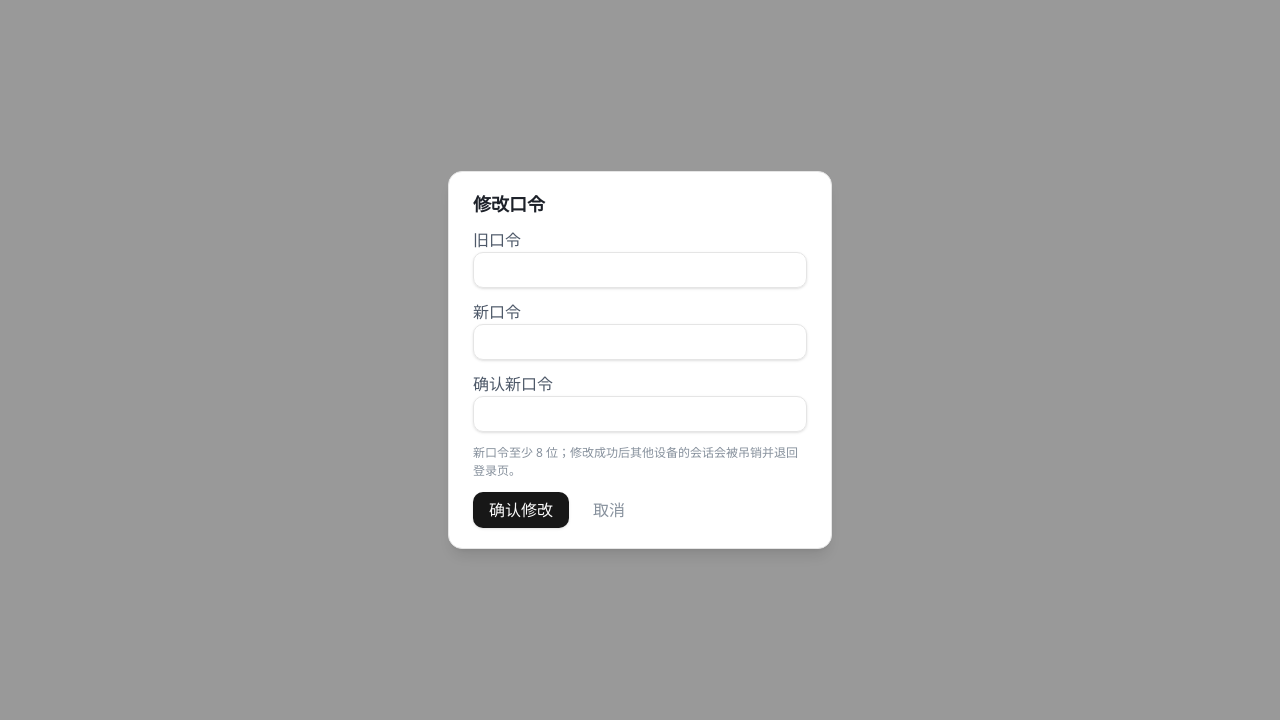
Test: 收编⑱：新口令短于 8 位前端拦截并上文案，不发请求
Type "Old-Pass-9" into the password field labelled "旧口令" at x=640, y=270, box [473,252,807,288]
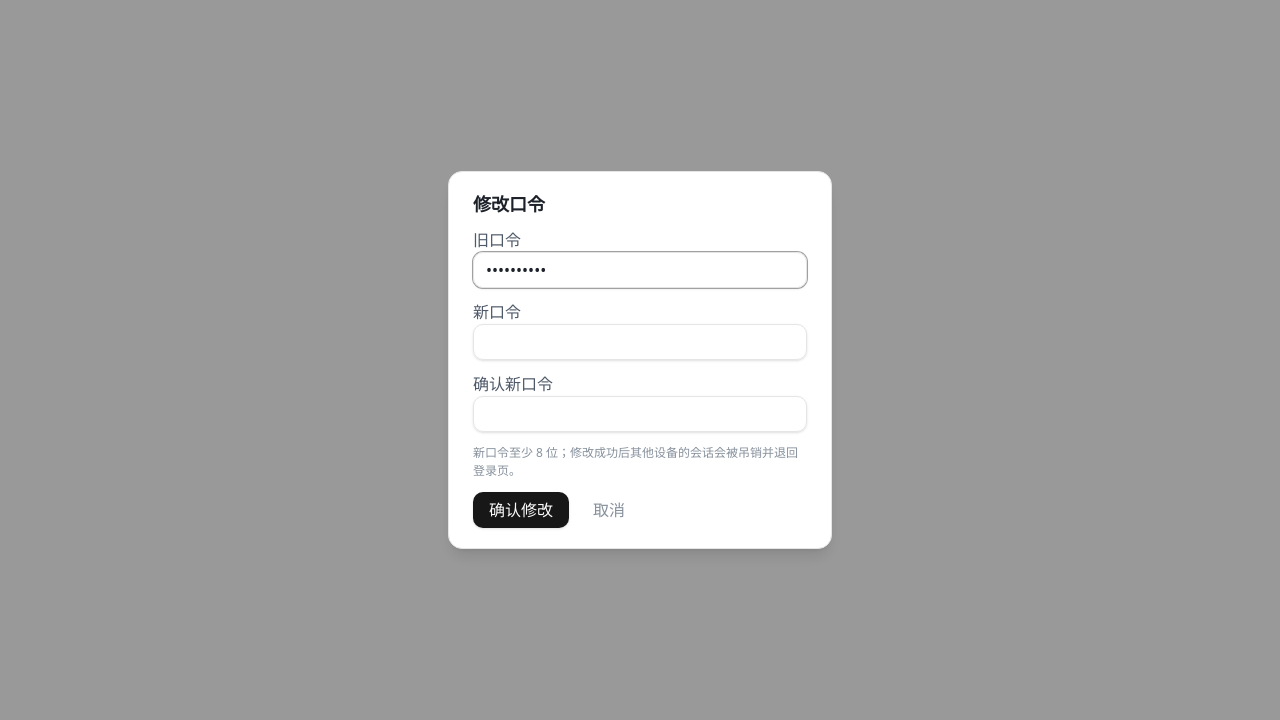
Type "Ab1!" into the password field labelled "新口令" at x=640, y=342, box [473,324,807,360]
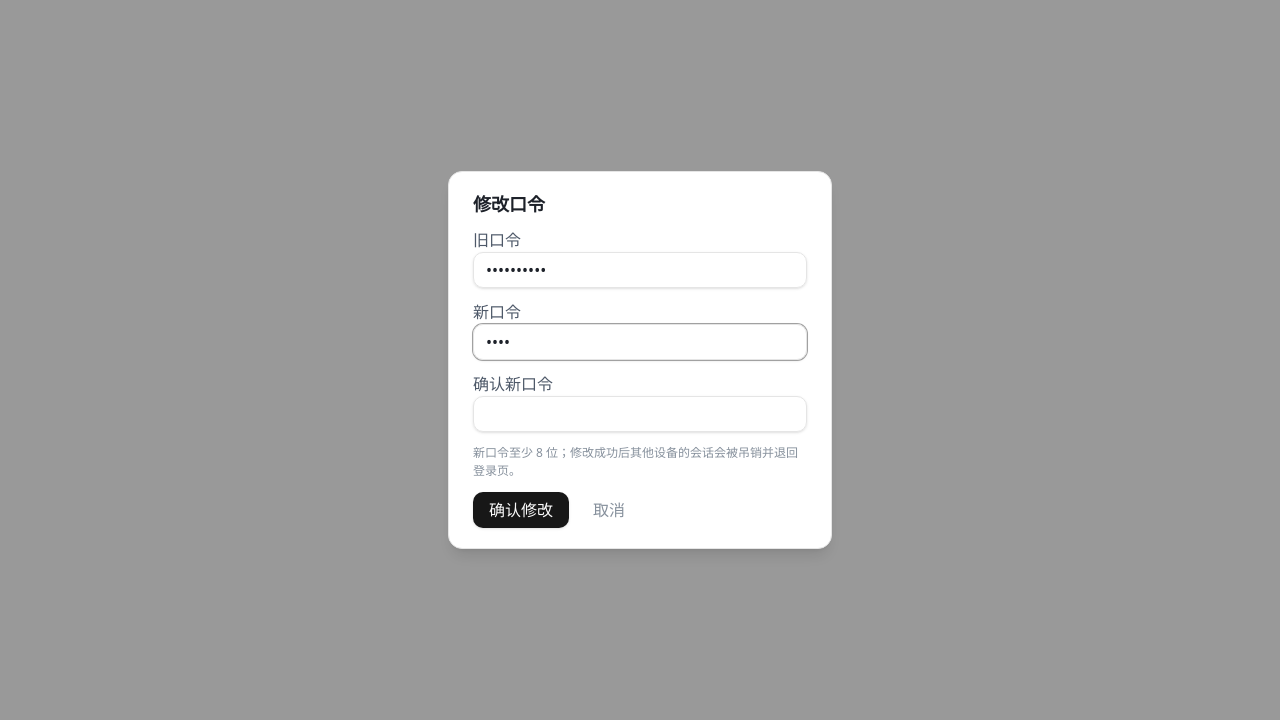
Type "Ab1!" into the password field labelled "确认新口令" at x=640, y=414, box [473,396,807,432]
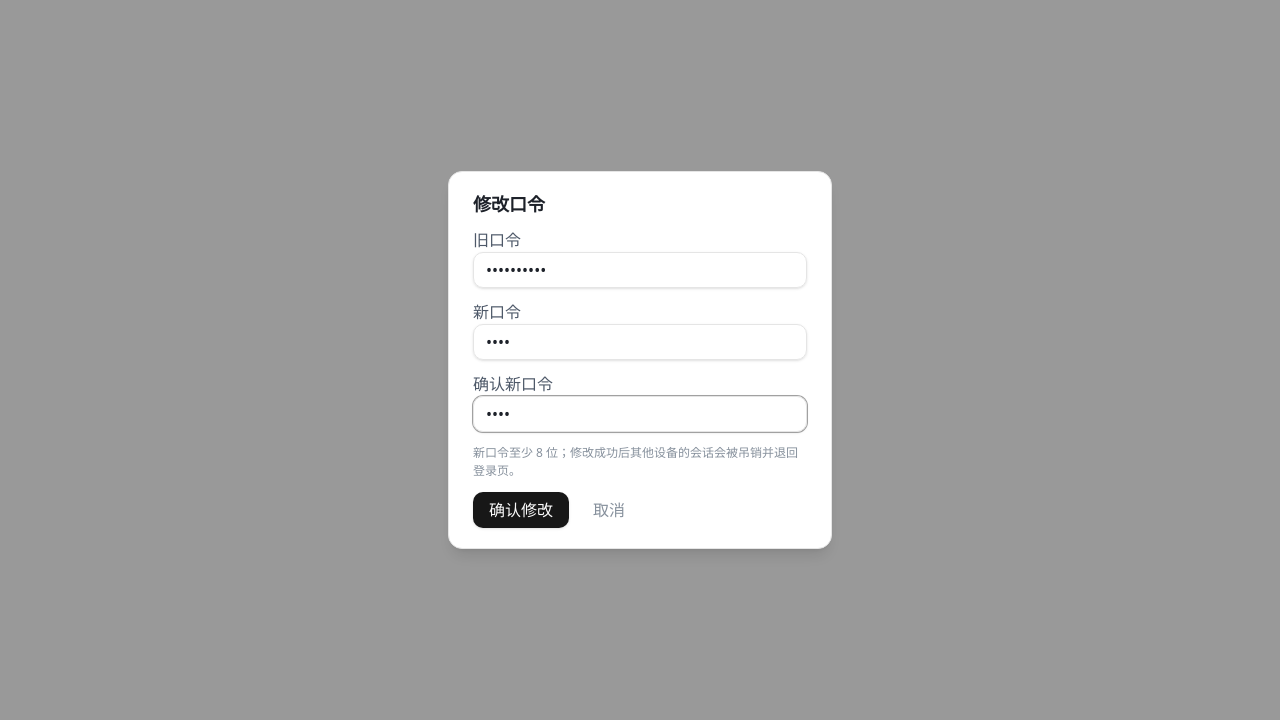
Click the button "确认修改" at x=521, y=510, box [473,492,569,528]
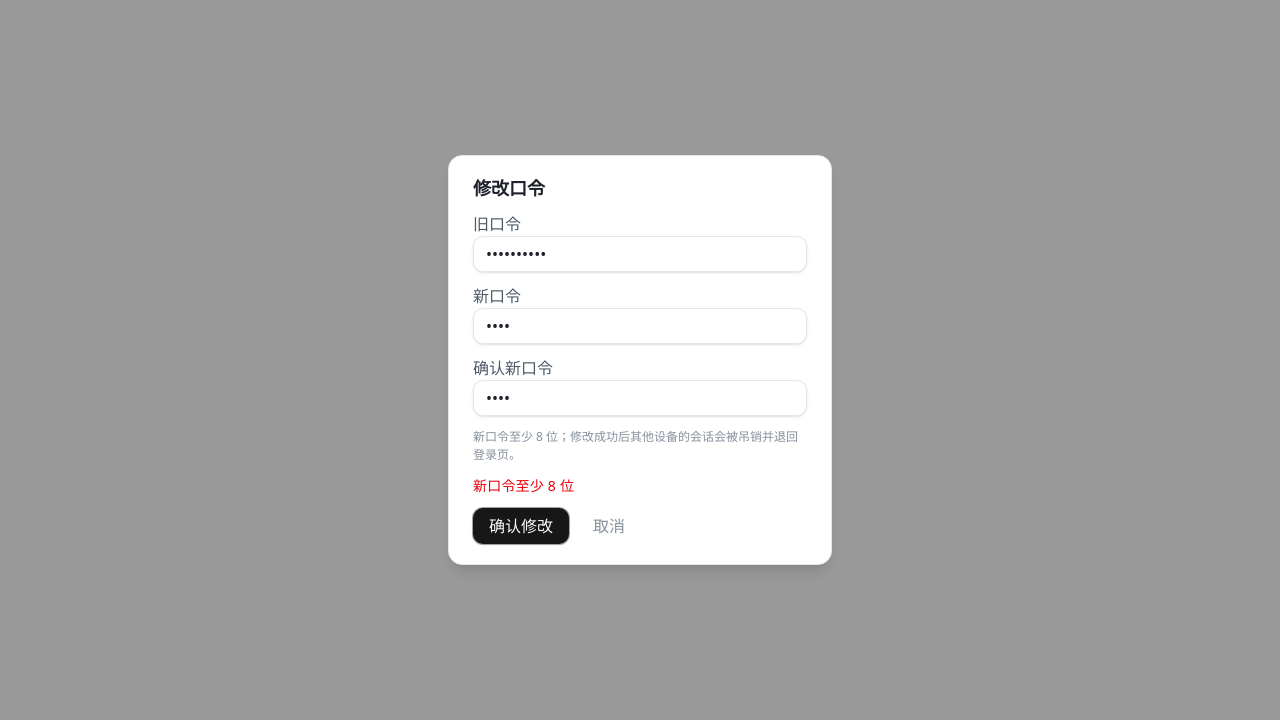
Expected: the text "新口令至少 8 位" is shown, [473,476,574,495]
